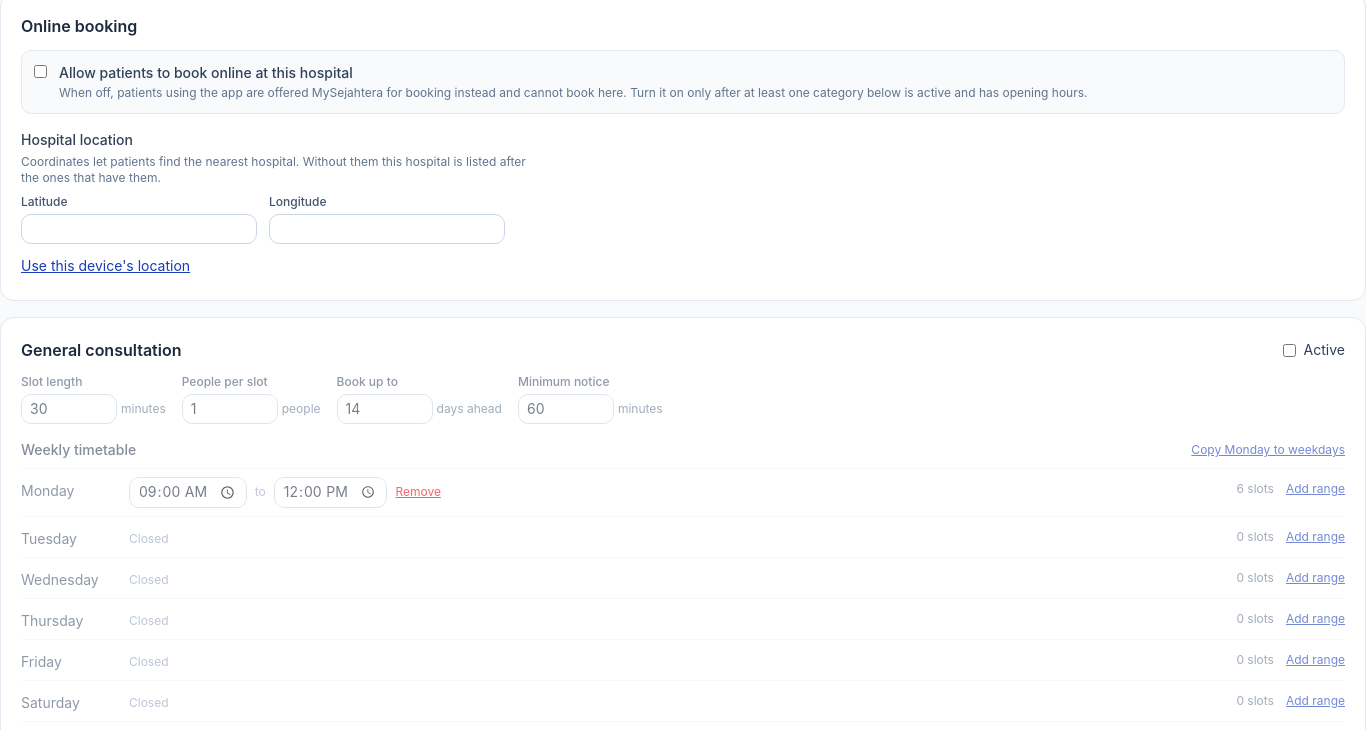
Scenario: OnlineBookingTab › copies Monday to weekdays
Expected: the text "Hospital location" is shown, [21,130,133,150]
Click the button "Copy Monday to weekdays" at (1268, 450), box [1191,442,1345,458]
(page scrolled)
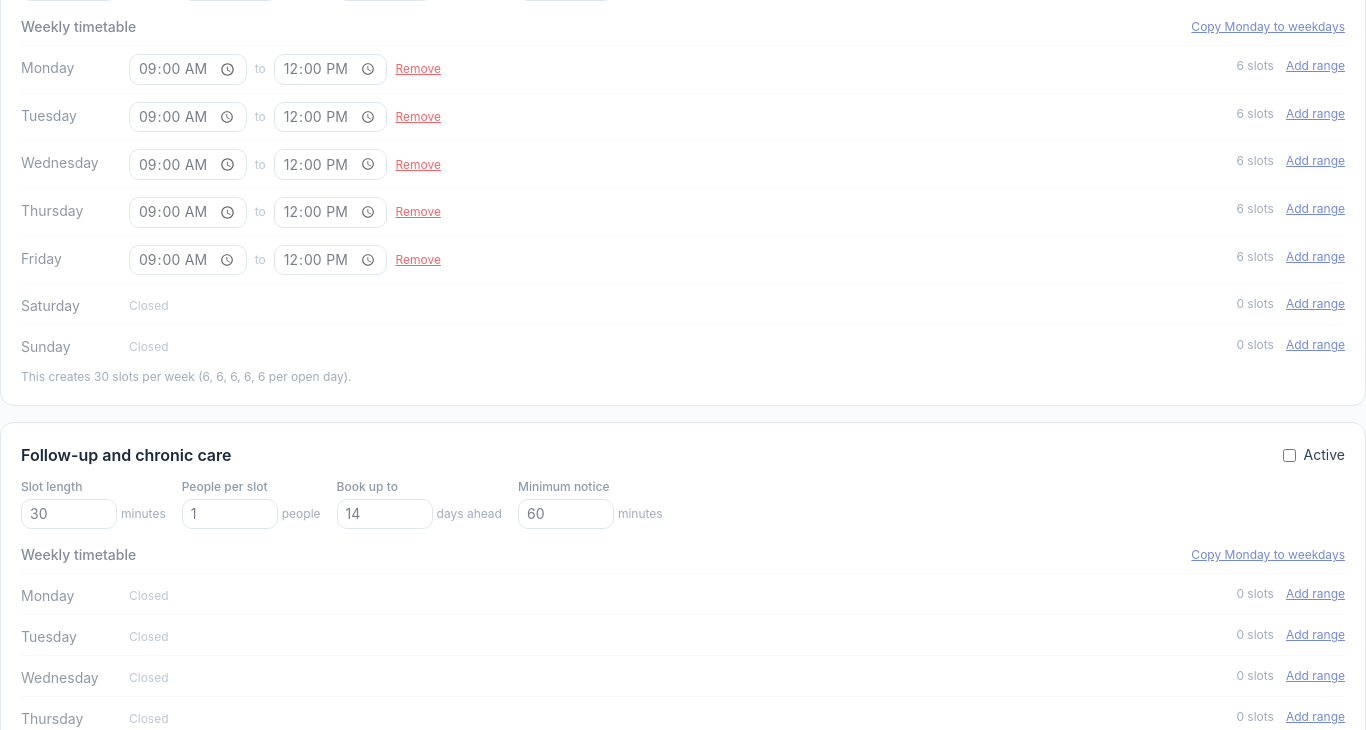
Expected: the time field named "General consultation Friday start time" holds "09:00", [129,245,247,276]
Expected: the text with test id "ob-general-preview" shows "creates 30 slots per week", [21,369,352,384]
